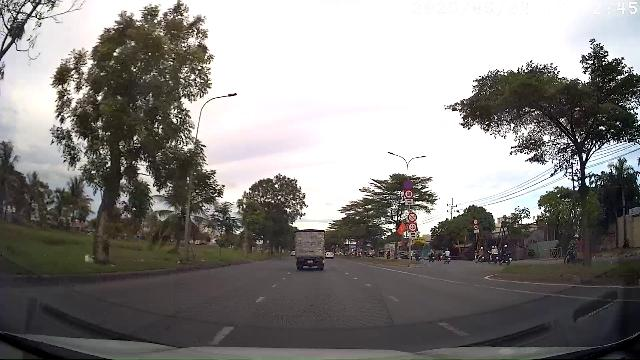127-toc-do-toi-da-60: (408, 222, 417, 231)
127-toc-do-toi-da-80: (405, 190, 414, 199)
130-cam-dung-va-do-xe: (403, 180, 414, 189)
